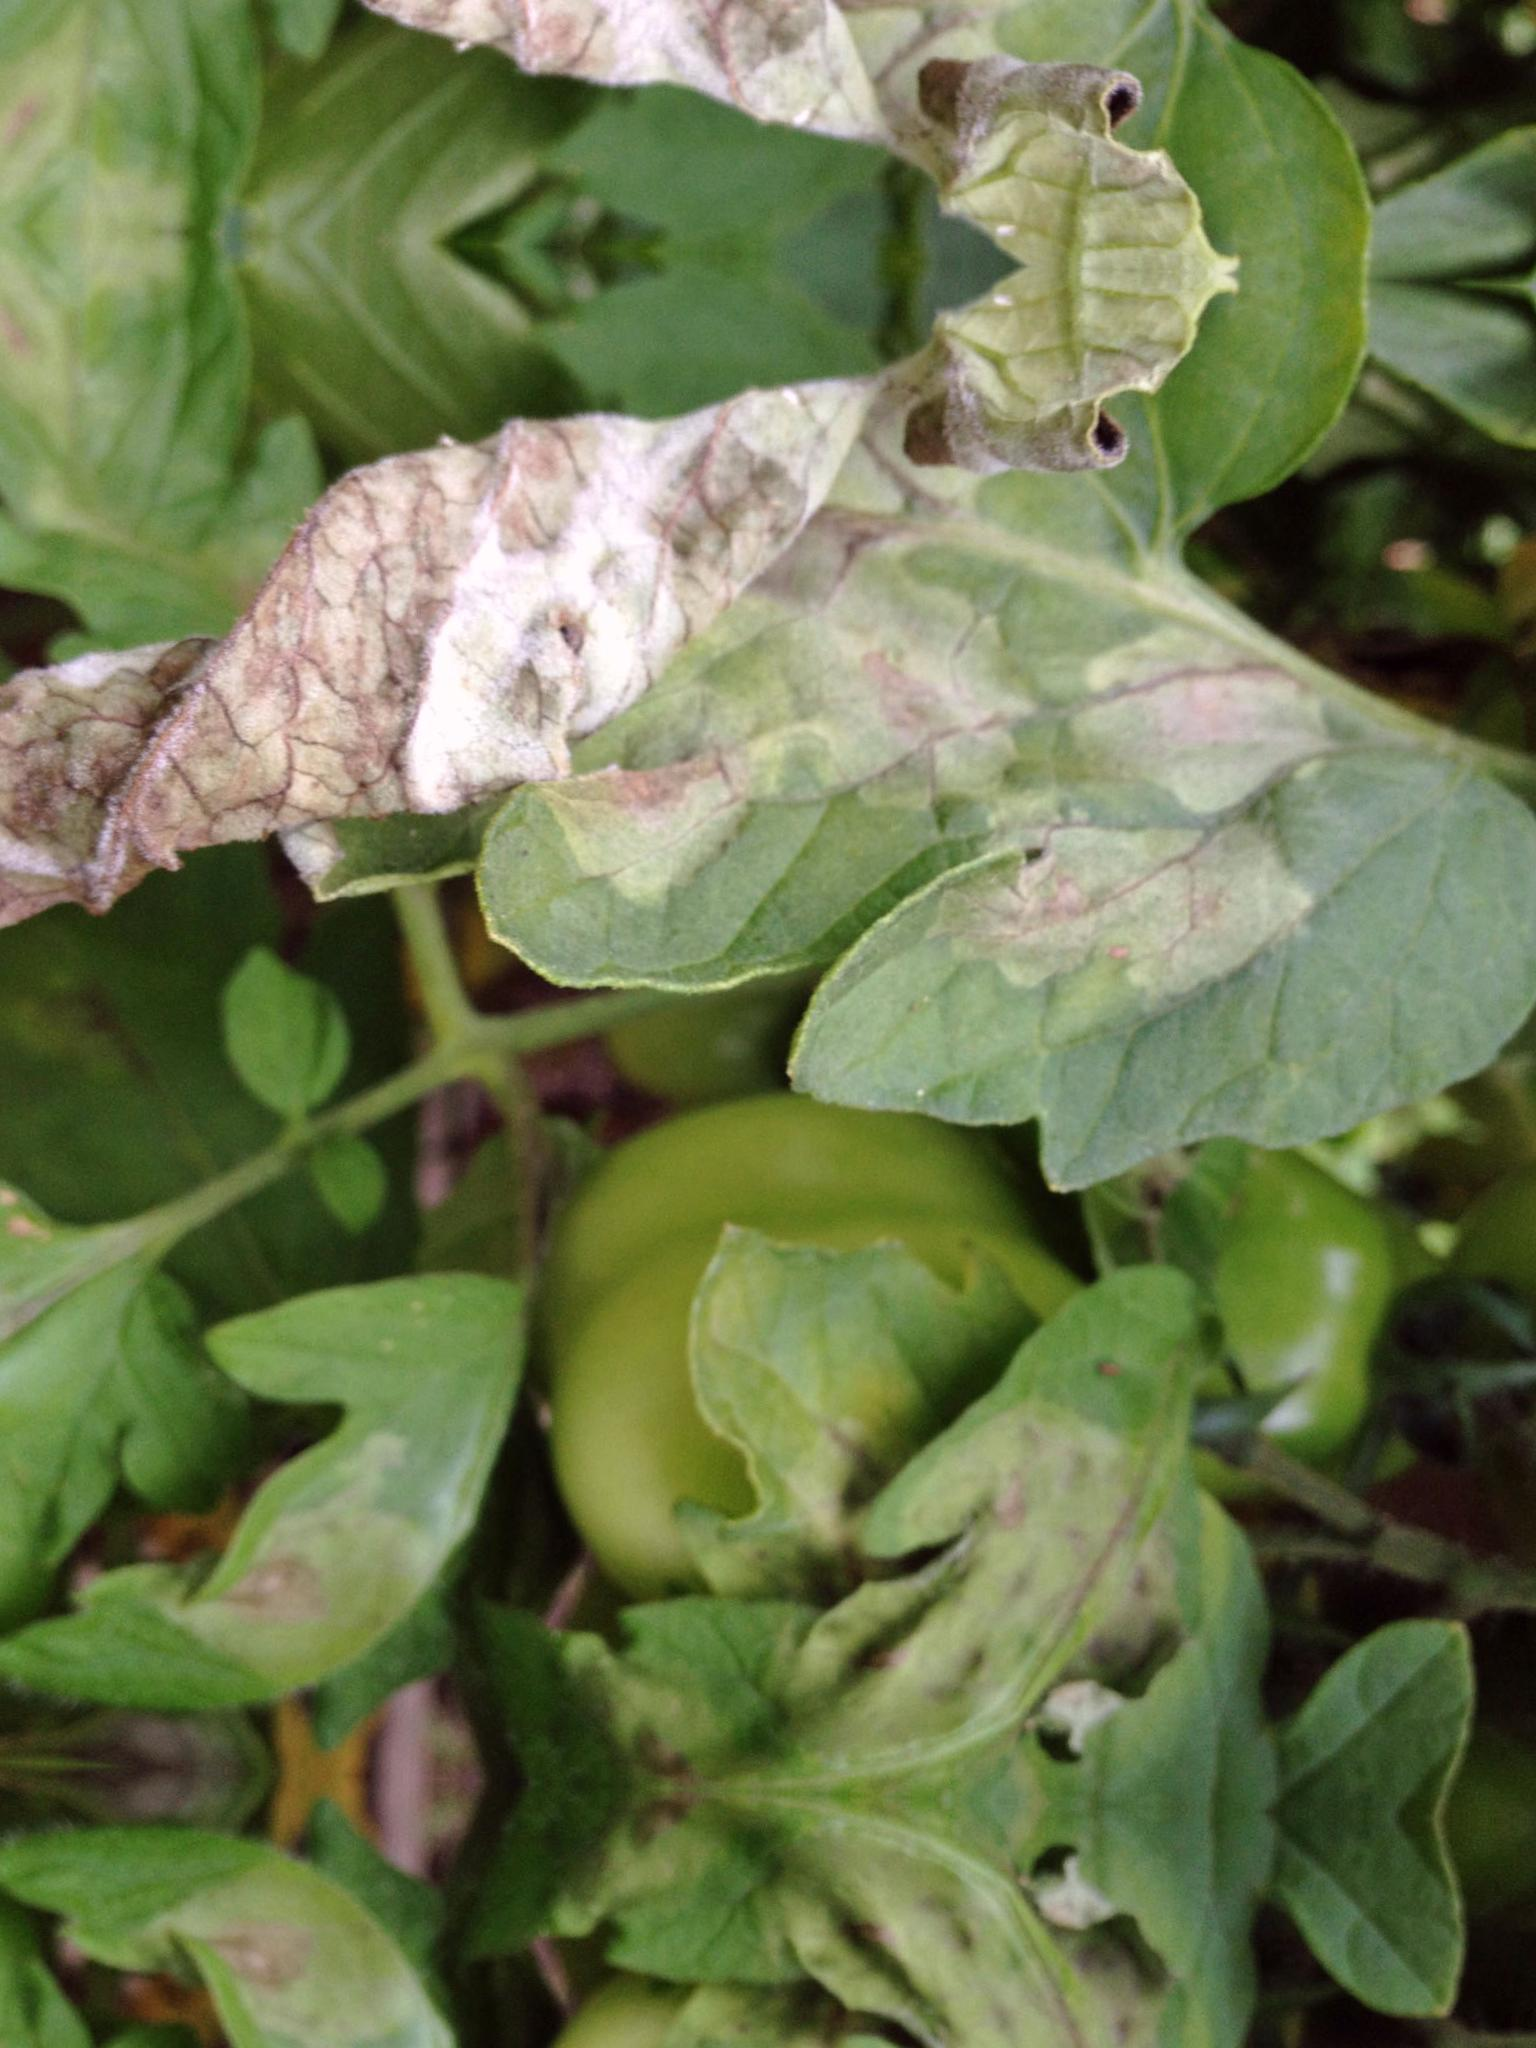Tomato leaf late blight: (444, 508, 1350, 1043), (742, 710, 1536, 1203), (8, 1126, 603, 1771), (728, 1251, 1239, 1811)
